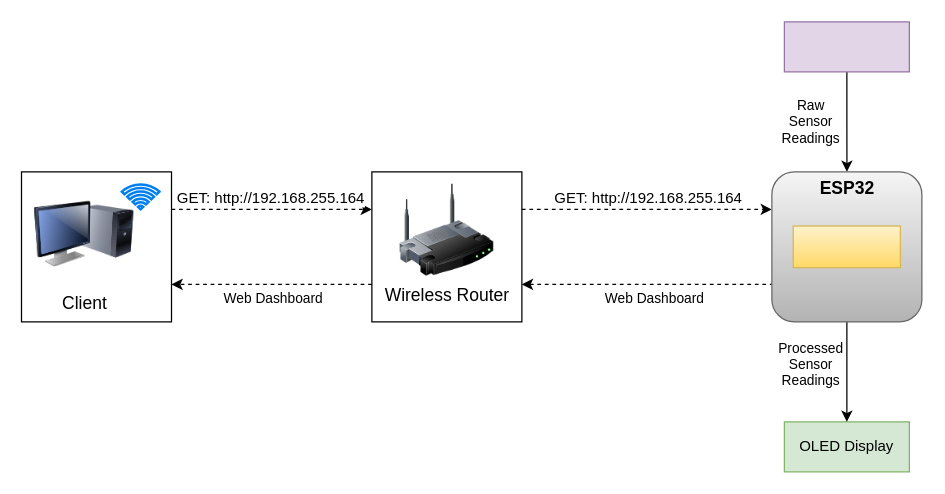
Image size: 945x494. Some labels were removed from this diagram. The centre of each missing label's shape, as x and y in pixels:
"Sensors" belongs at (846,46).
"Web Server" belongs at (846,246).
